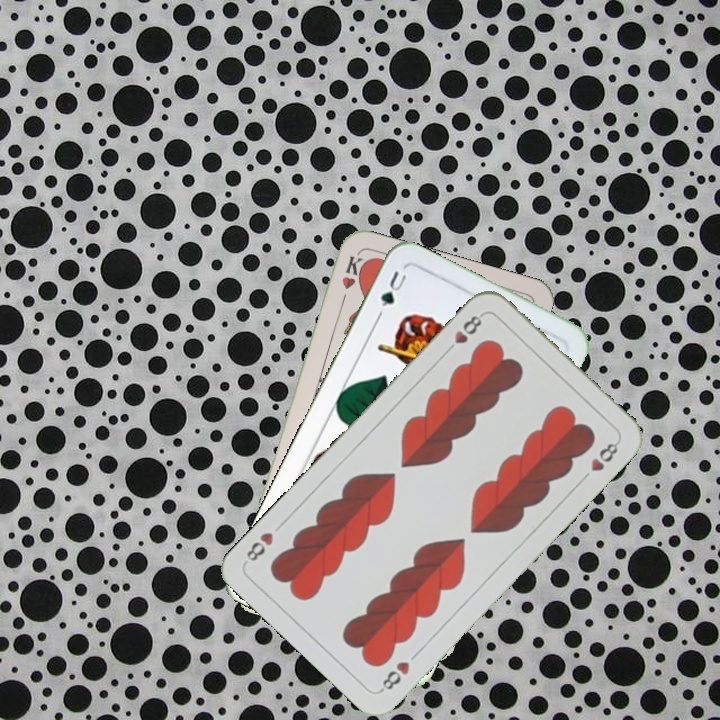GU: (374, 266, 410, 319)
H8: (441, 309, 486, 357), (375, 657, 413, 695)
HK: (336, 251, 364, 310)
